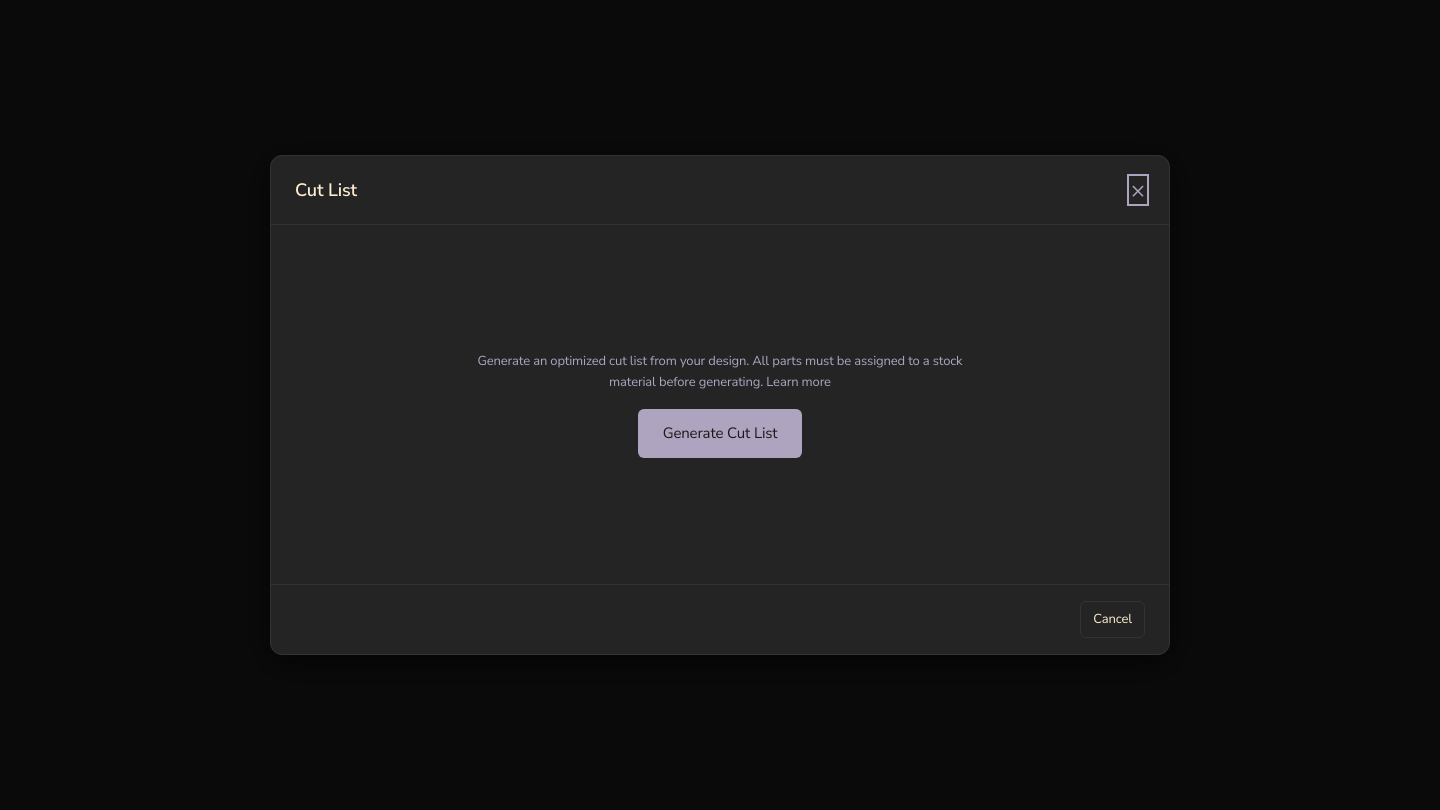
Scenario: CutListModal › generating cut list › blocks generation and shows issue list for invalid saved operations
Click the button "Generate Cut List": (720, 433) [638,409,802,458]
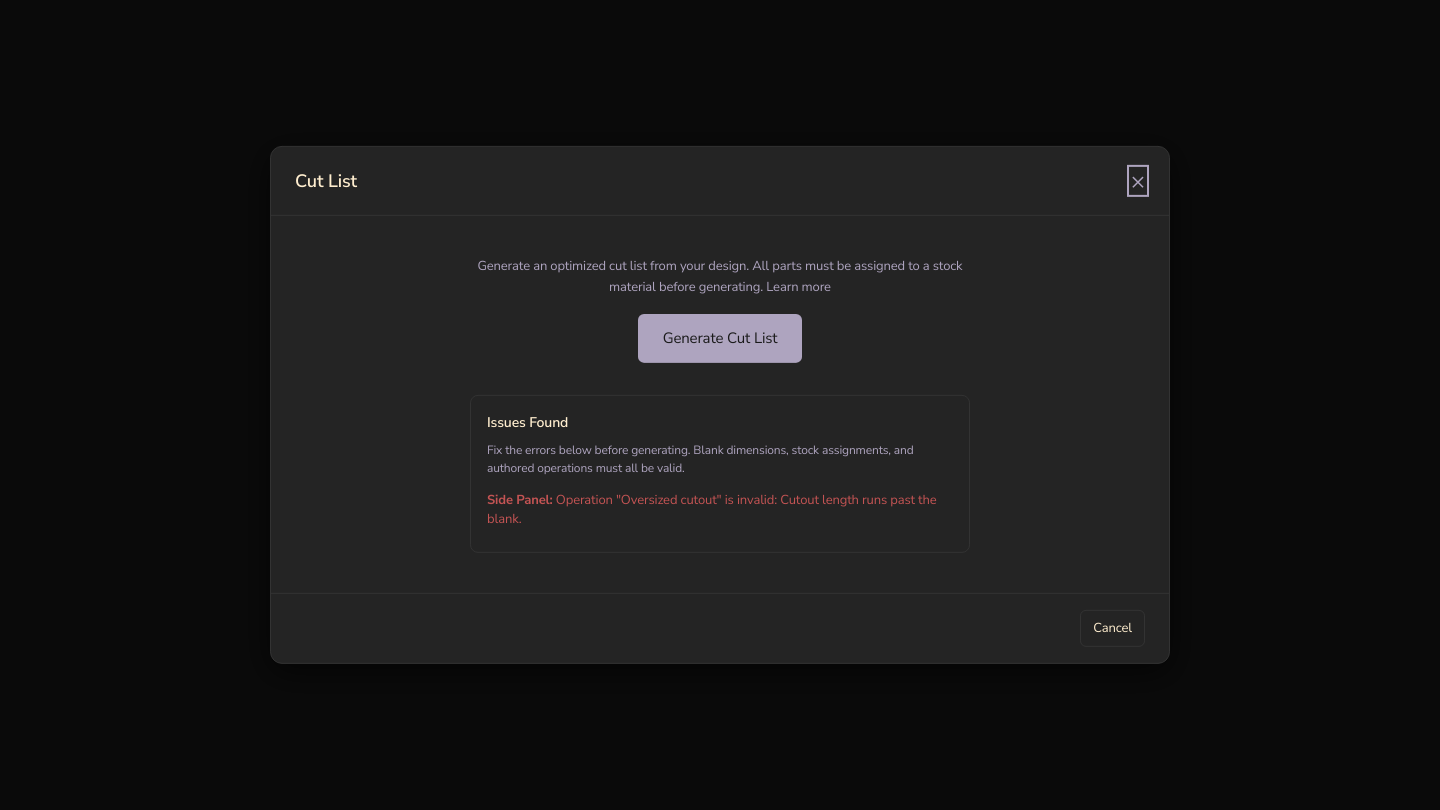
Result: the heading "Issues Found" is shown at [487,413,568,432]
Result: the list item "Oversized cutout" is shown at [487,491,936,528]
